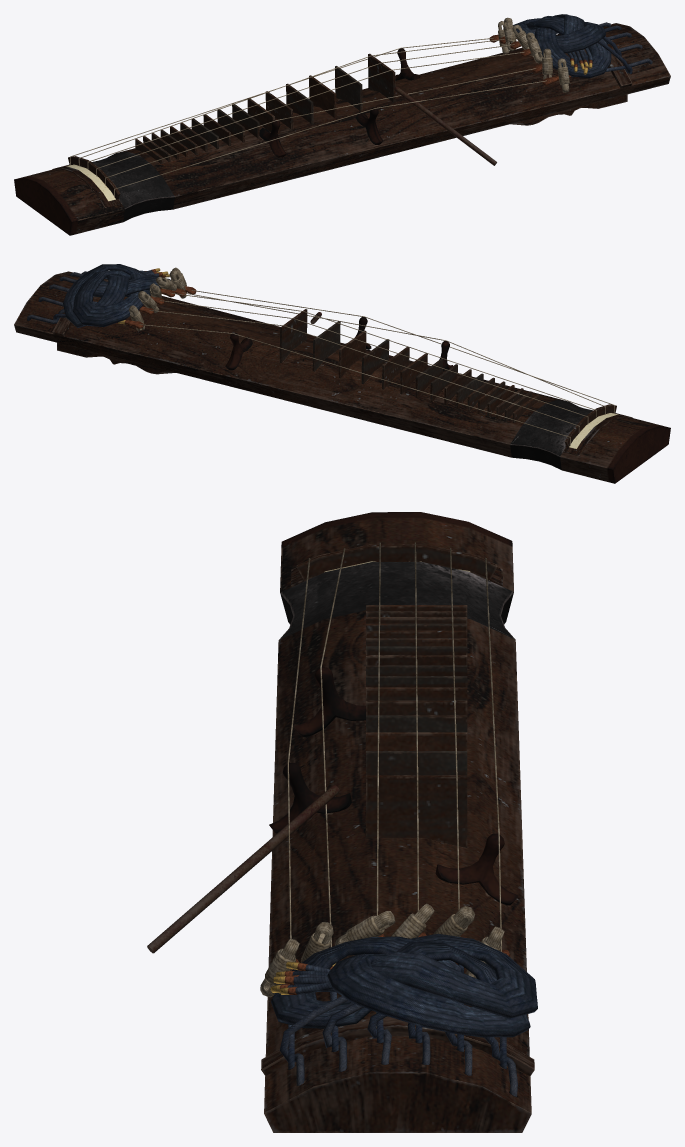
File: geomungo.glb
3 views of the same model, one above another, from view 1: azimuth 30°, elevation 25°; view 2: azimuth 150°, elevation 25°; view 3: azimuth 270°, elevation 25° (orthographic). The views are drawn at different scales.
Visible parts, largest first — view 1: SM_Geomungo; view 2: SM_Geomungo; view 3: SM_Geomungo.
Boxes of the visible parts, box(x1,y1,x2,y2) form: SM_Geomungo: box(14, 14, 670, 235); SM_Geomungo: box(14, 264, 670, 483); SM_Geomungo: box(147, 512, 537, 1132).
Size of the model in its own units: 1.63 by 0.1796 by 0.4633.
Materials: 1 (1 with a texture image).
